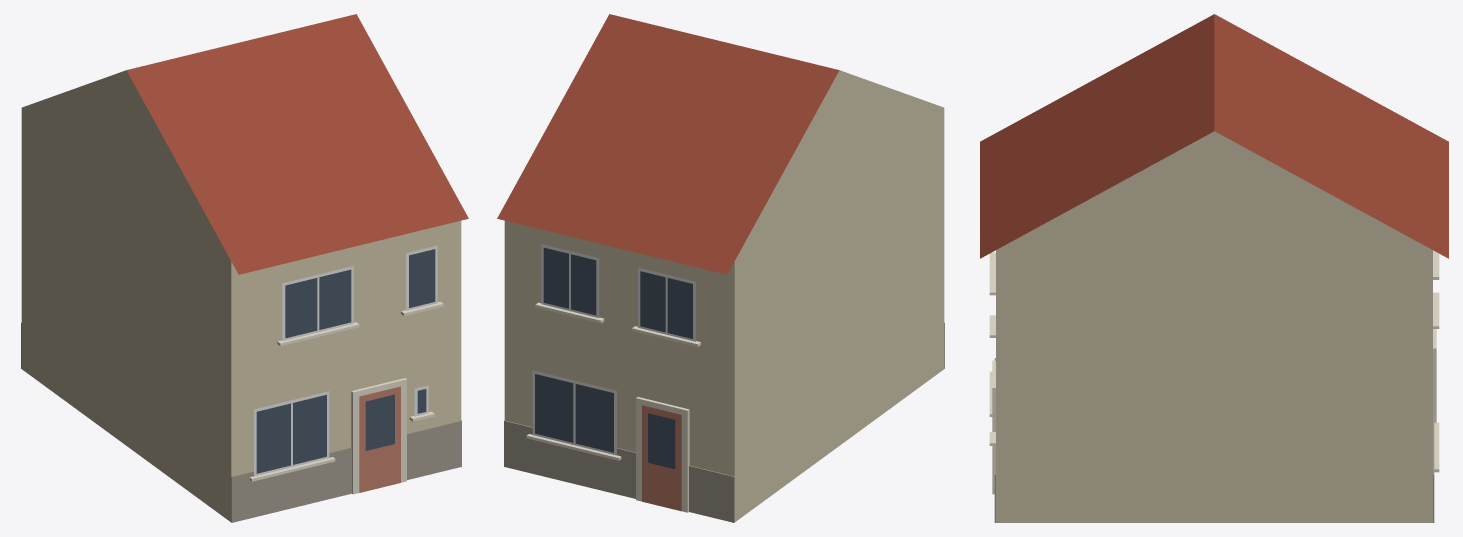
The model's file is nw-rowhouse-render-tile__cream__2__gable__long__solid.glb.
The picture shows the model from 3 angles, left to right: view 1: azimuth 30°, elevation 25°; view 2: azimuth 150°, elevation 25°; view 3: azimuth 270°, elevation 25°; orthographic projection. The views are drawn at different scales.
Parts seen in each view (by area): view 1: nw-rowhouse-render-tile__cream__2__gable__long__solid; view 2: nw-rowhouse-render-tile__cream__2__gable__long__solid; view 3: nw-rowhouse-render-tile__cream__2__gable__long__solid.
Part boxes in pixels (<box>): nw-rowhouse-render-tile__cream__2__gable__long__solid: <box>21,14,468,522</box>; nw-rowhouse-render-tile__cream__2__gable__long__solid: <box>497,14,944,522</box>; nw-rowhouse-render-tile__cream__2__gable__long__solid: <box>980,14,1448,522</box>.
Size of the model in its own units: 5.24 by 8.17 by 8.86.
